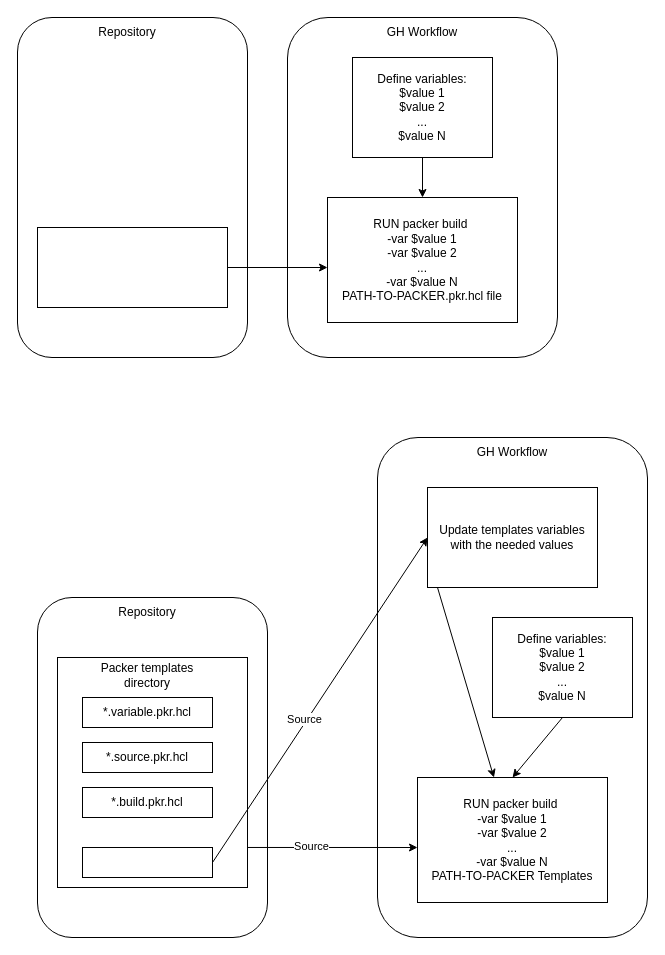
This 665x955 diagram has some shape labels left out. The shapes that lost their labels are listed below. From the top down, each one's centre as x and y in pixels, then its label:
At (132,267): "Packer template (*.pkr.hcl)".
At (147,862): "*.pkrvars.hcl".
